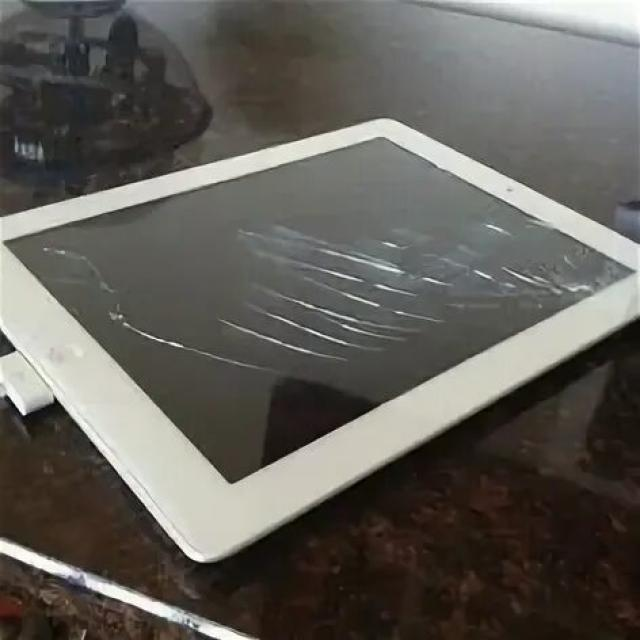Crack: (37, 209, 618, 373)
